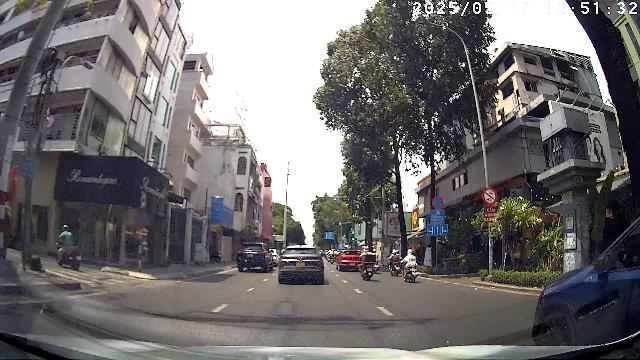130-cam-dung-va-do-xe: (432, 196, 444, 209)
